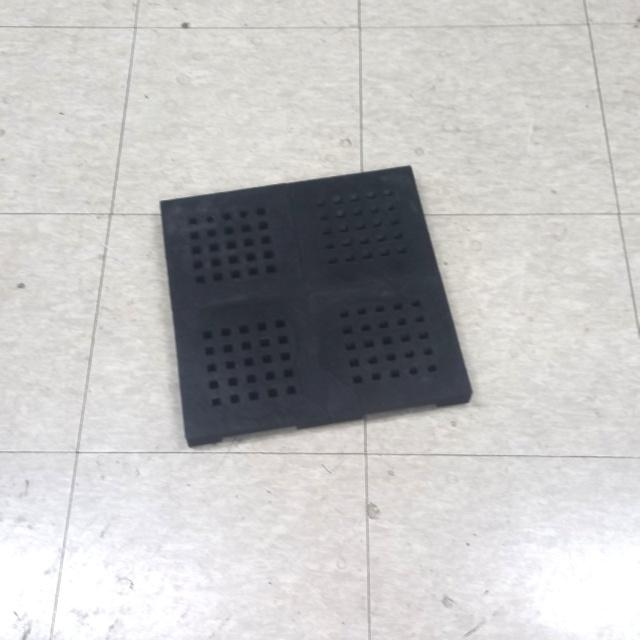pallet: (154, 156, 480, 452)
